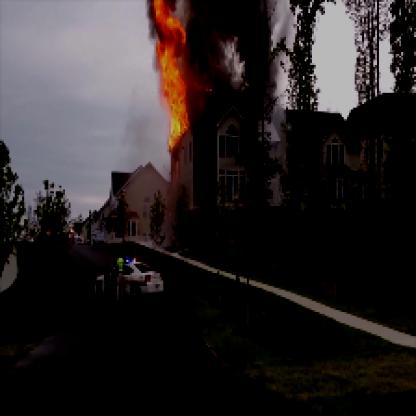Fire: (152, 2, 199, 150)
Smoke: (190, 2, 270, 113)
